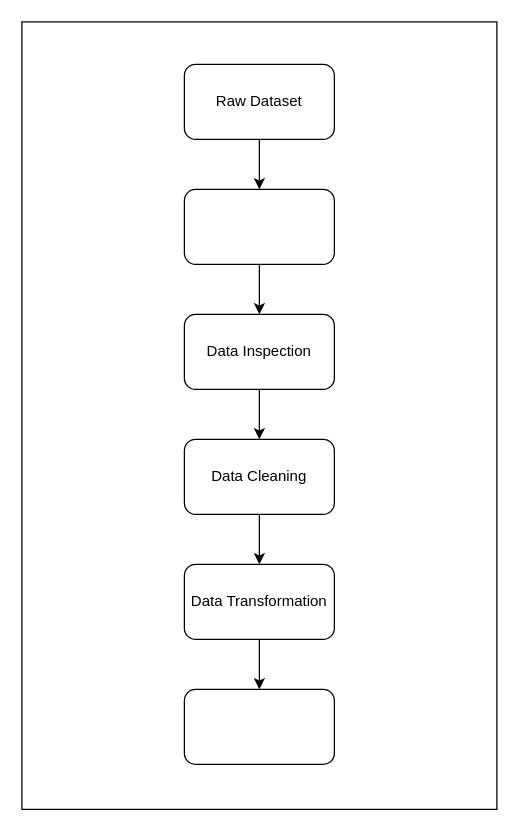
Some shapes in this 519 by 831 pixel diagram are drawn without their labels. The centre of each missing label's shape, as x and y in pixels:
"Load Data" goes at [258,226].
"Processed Dataset" goes at [258,726].
